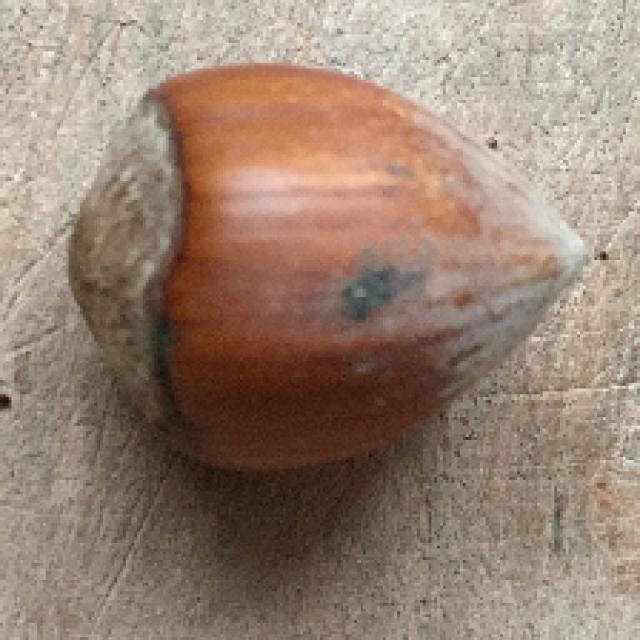qualityHazelnut: (75, 65, 590, 468)
